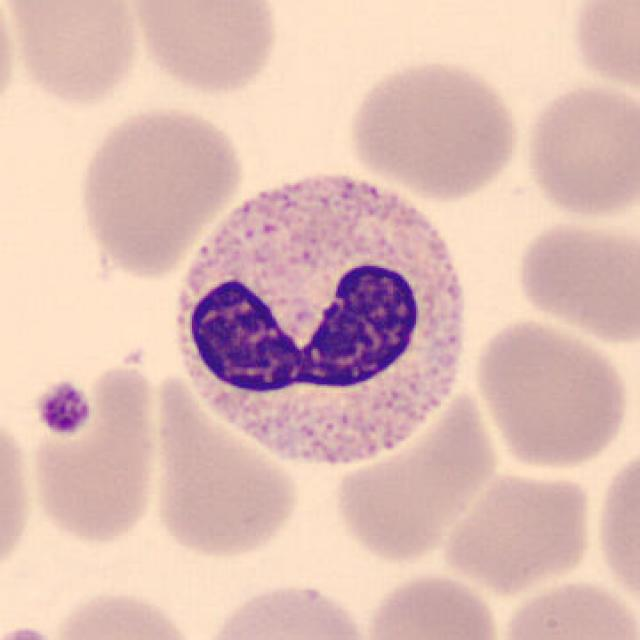Neutrophil: (158, 155, 478, 481)
Platelets: (30, 377, 94, 439), (2, 622, 64, 640)
RBC: (71, 100, 247, 278), (329, 386, 501, 564), (146, 376, 302, 562), (342, 55, 524, 201), (27, 356, 165, 548), (469, 314, 633, 472), (438, 464, 598, 594), (519, 78, 638, 222), (512, 215, 638, 346), (0, 0, 146, 109), (123, 0, 284, 97), (193, 576, 375, 640), (361, 567, 505, 640), (494, 575, 638, 640), (590, 435, 638, 619), (46, 585, 205, 640), (564, 0, 638, 99), (0, 398, 37, 588), (0, 2, 21, 134)
